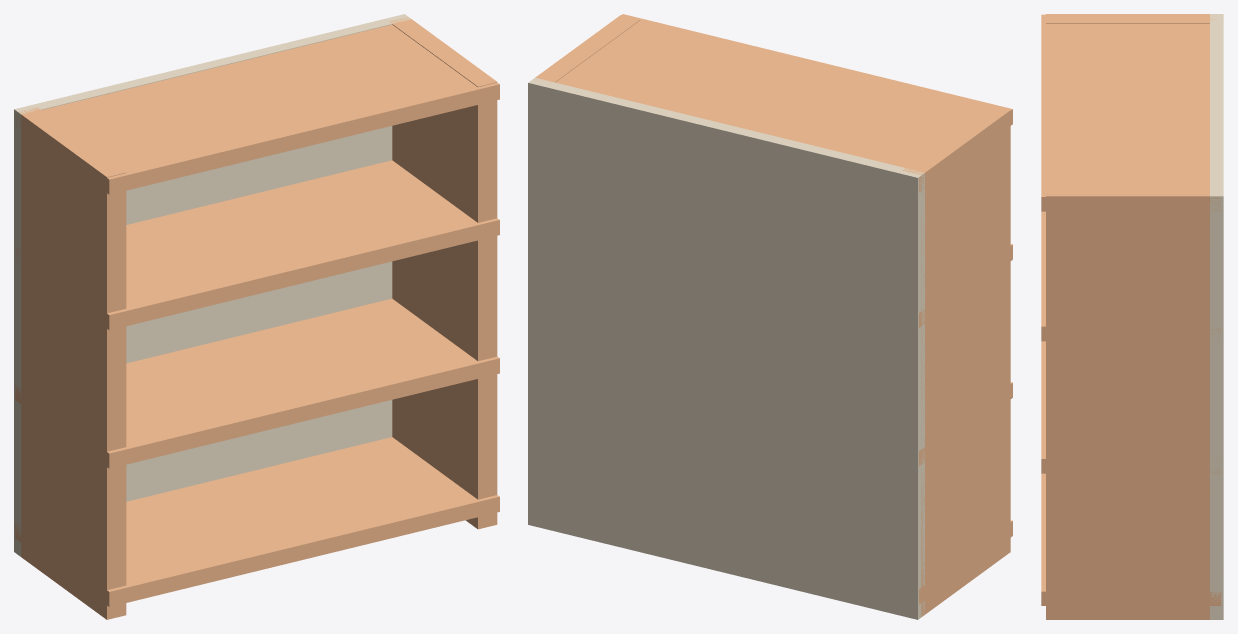
The picture shows the model from 3 angles, left to right: view 1: azimuth 30°, elevation 25°; view 2: azimuth 150°, elevation 25°; view 3: azimuth 270°, elevation 25°; orthographic projection. The views are drawn at different scales.
Parts seen in each view (by area): view 1: Side, Shelf.003, Back, Shelf.001, Shelf, Shelf.002, Side.001; view 2: Back, Side, Shelf.003, Side.001, Shelf, Shelf.001, Shelf.002; view 3: Side.001, Shelf.003, Back, Shelf, Shelf.002, Shelf.001, Side.
Part boxes in pixels (x1,y1,x2,y2): Side: (19,107,126,619); Shelf.003: (15,24,499,194); Back: (14,14,411,556); Shelf.001: (15,298,499,468); Shelf: (15,437,499,606); Shelf.002: (15,160,499,330); Side.001: (389,17,497,529); Back: (528,77,924,619); Side: (902,105,1010,617); Shelf.003: (555,14,1012,192); Side.001: (534,15,639,84); Shelf: (919,520,1012,604); Shelf.001: (919,382,1012,466); Shelf.002: (919,244,1012,327); Side.001: (1046,187,1213,619); Shelf.003: (1041,14,1220,211); Back: (1210,14,1223,619); Shelf: (1041,473,1221,605); Shelf.002: (1041,211,1220,341); Shelf.001: (1041,341,1220,473); Side: (1046,14,1216,23).
Bounding box in the file's own units: 0.96 × 1.04 × 0.405.
1 material, 1 textured.
